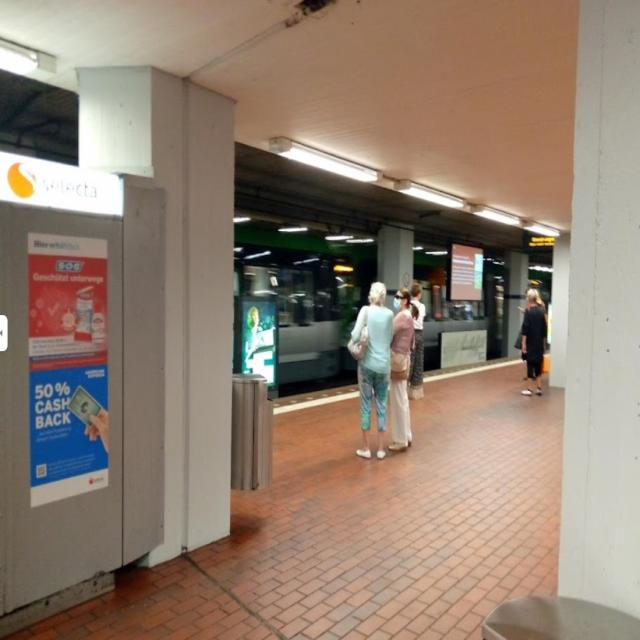Werbetafel frei: (26, 233, 111, 509), (239, 299, 277, 383), (447, 242, 485, 303)
